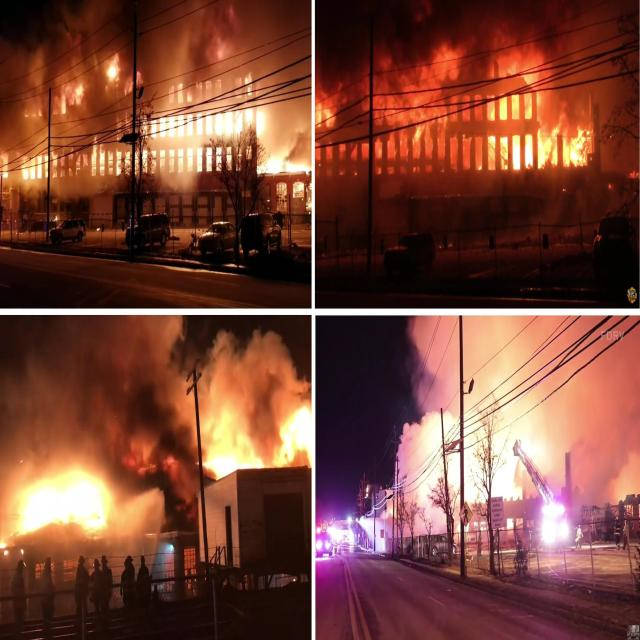Fire: (483, 64, 594, 177), (15, 466, 116, 542), (134, 96, 271, 148), (251, 146, 308, 192), (2, 144, 57, 185)
